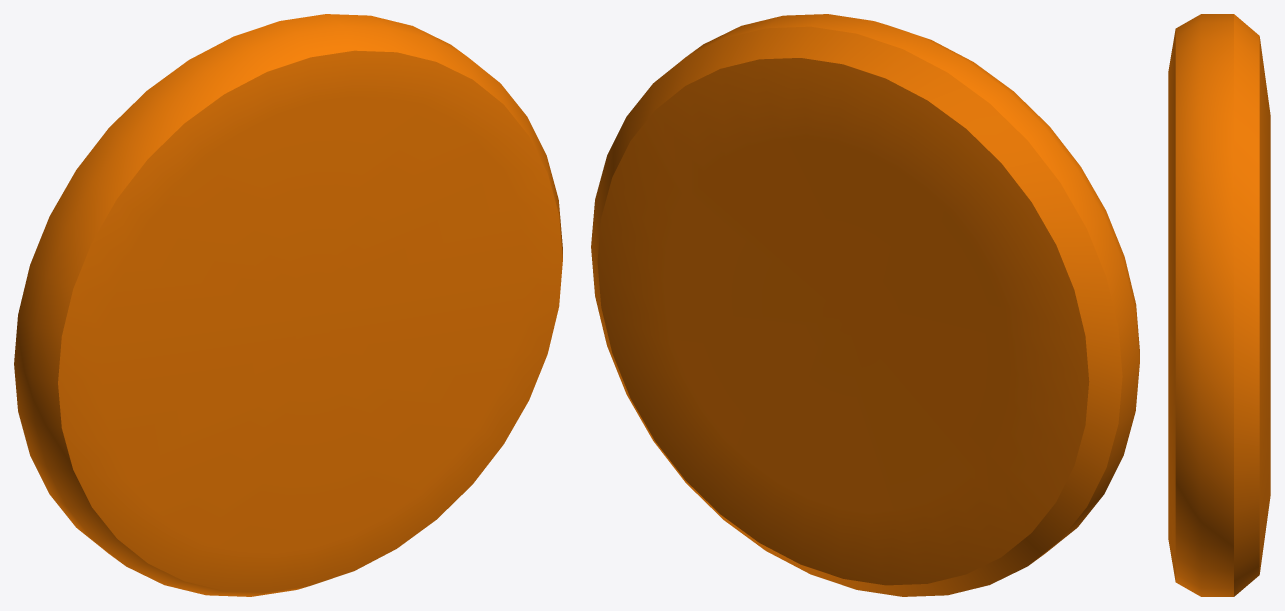
Rendered from flying_disc.glb.
3 renders of one model, left to right at view 1: azimuth 30°, elevation 25°; view 2: azimuth 150°, elevation 25°; view 3: azimuth 270°, elevation 25°, orthographic. The views are drawn at different scales.
Parts seen in each view (by area): view 1: flying_disc; view 2: flying_disc; view 3: flying_disc.
Part boxes in pixels (x1,y1,x2,y2): flying_disc: (14, 14, 562, 596); flying_disc: (591, 14, 1139, 596); flying_disc: (1168, 14, 1270, 596).
Size of the model in its own units: 0.09 by 0.09 by 0.0158.
